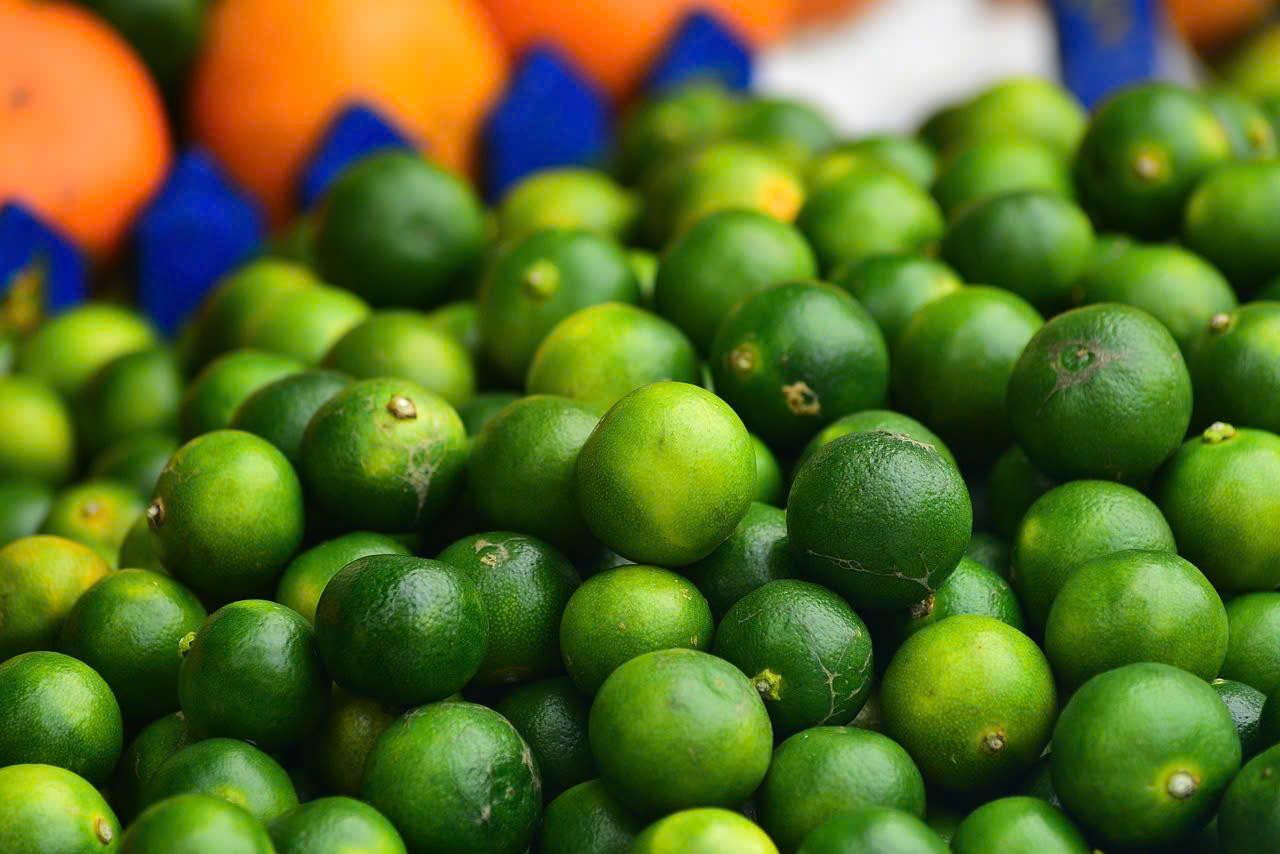lime: (0, 512, 305, 722), (578, 650, 829, 801), (544, 492, 749, 670), (1084, 654, 1279, 840), (1048, 476, 1234, 668), (588, 364, 771, 544), (1042, 282, 1231, 452), (502, 222, 700, 376), (720, 294, 967, 417), (786, 760, 1108, 854), (24, 758, 337, 854), (392, 692, 577, 850), (312, 536, 501, 686), (798, 424, 961, 591), (888, 610, 1049, 779), (736, 560, 894, 712), (164, 436, 318, 582), (332, 382, 460, 530), (480, 364, 579, 539)
